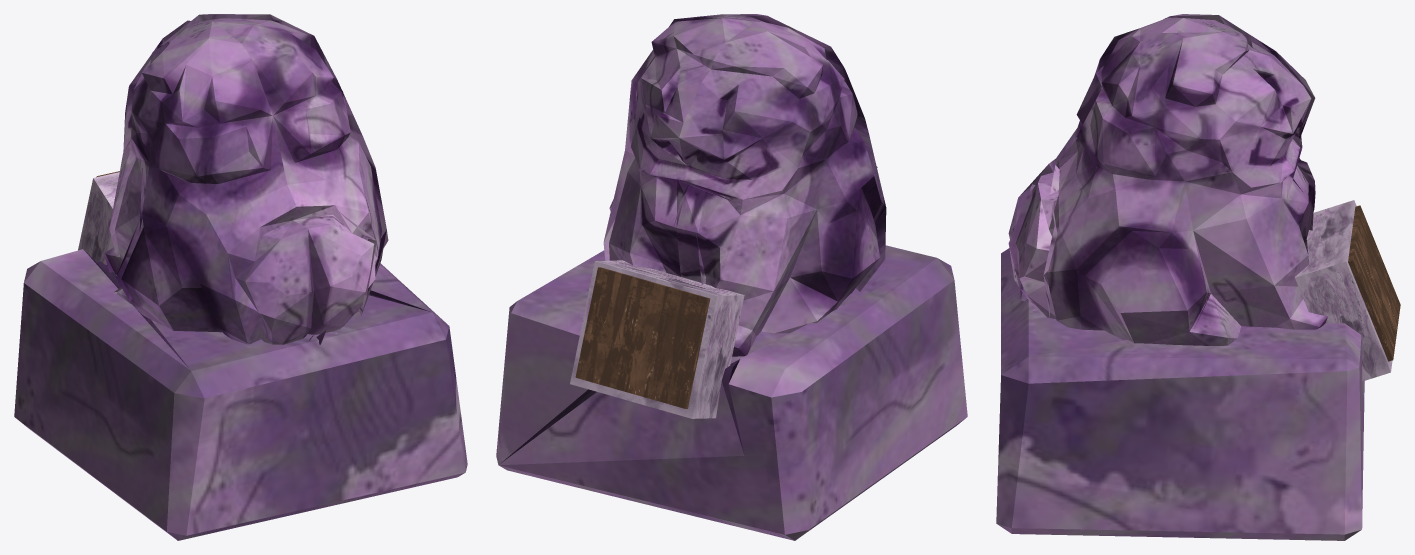
File: entity3314n.gltf
The picture shows the model from 3 angles, left to right: view 1: azimuth 30°, elevation 25°; view 2: azimuth 150°, elevation 25°; view 3: azimuth 270°, elevation 25°; orthographic projection. The views are drawn at different scales.
Visible parts, largest first — view 1: node_sign_book, node_PaintingDummy (10); view 2: node_sign_book, node_PaintingDummy (11), node_PaintingDummy (10); view 3: node_sign_book, node_PaintingDummy (10), node_PaintingDummy (11).
Part boxes in pixels (box(x1,y1,x2,y2)): node_sign_book: box(14, 14, 467, 540); node_PaintingDummy (10): box(78, 172, 119, 264); node_sign_book: box(496, 14, 967, 540); node_PaintingDummy (11): box(575, 267, 710, 408); node_PaintingDummy (10): box(570, 260, 744, 418); node_sign_book: box(996, 14, 1364, 540); node_PaintingDummy (10): box(1295, 200, 1392, 381); node_PaintingDummy (11): box(1348, 205, 1400, 361).
Size of what is drawn, in the model's own units: 1.91 by 2.51 by 2.09.
